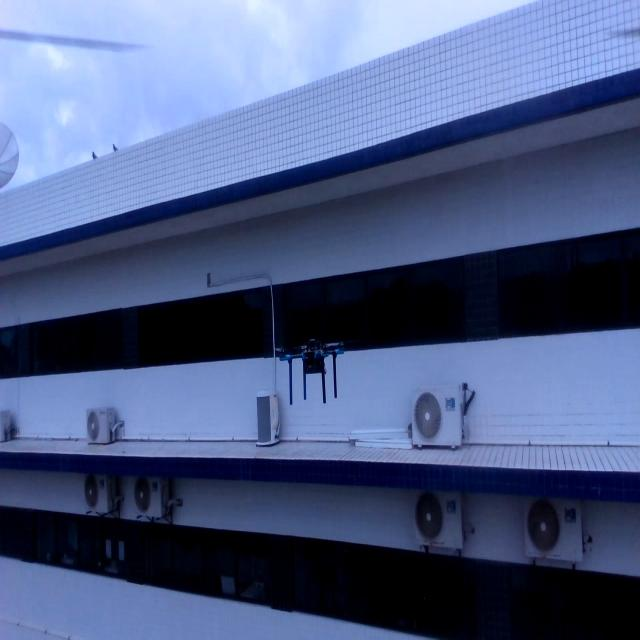-uav-: (264, 324, 362, 414)
